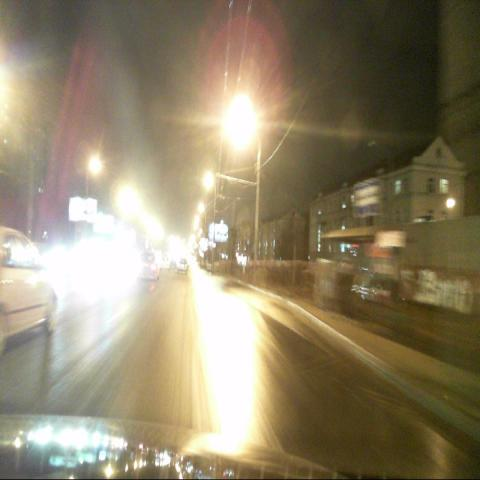5_16: (364, 178, 380, 216)
